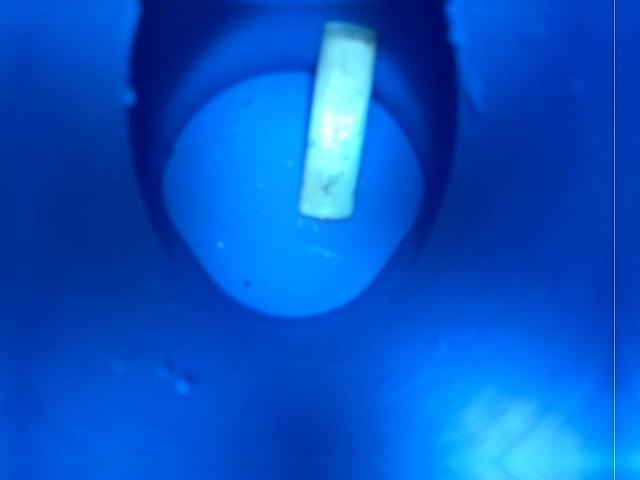megot: (284, 16, 394, 222)
